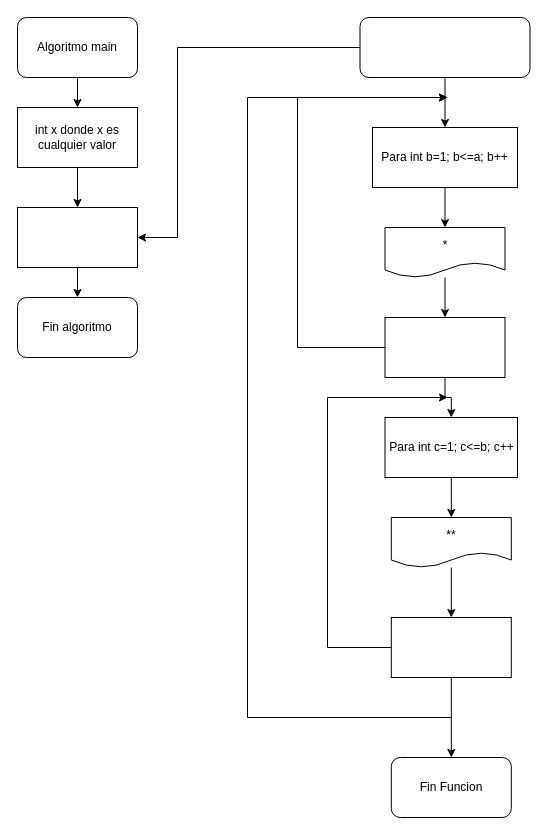
This 548x835 diagram has some shape labels left out. The shapes that lost their labels are listed below. From the top down, each one's centre as x and y in pixels, then its label:
At point 444,47: "Funcion asterisco (int a)".
At point 77,237: "Funcion asterisco(x)".
At point 444,347: "b=b+1".
At point 450,647: "c=c+1".
